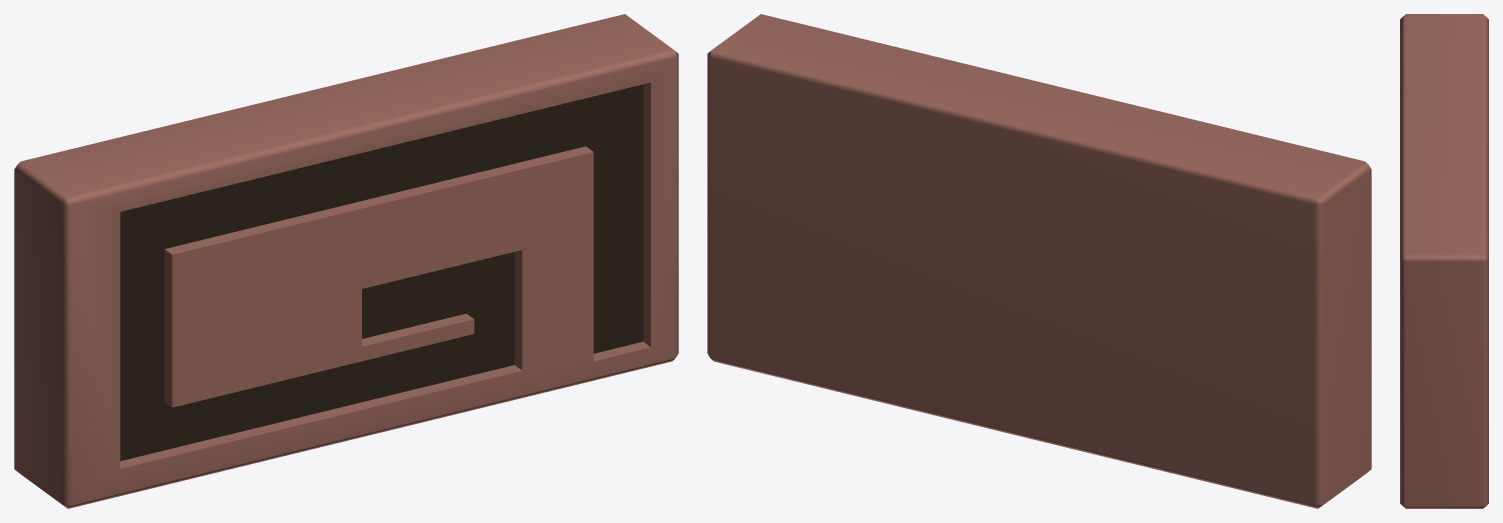
Rendered from SM_muretto5.fbx.
The picture shows the model from 3 angles, left to right: view 1: azimuth 30°, elevation 25°; view 2: azimuth 150°, elevation 25°; view 3: azimuth 270°, elevation 25°; orthographic projection. The views are drawn at different scales.
Parts seen in each view (by area): view 1: pCube56; view 2: pCube56; view 3: pCube56.
Part boxes in pixels (box(x1,y1,x2,y2)): pCube56: box(14, 14, 678, 508); pCube56: box(707, 14, 1371, 508); pCube56: box(1400, 14, 1488, 508).
Bounding box in the file's own units: 3.61 × 1.75 × 0.5535.
